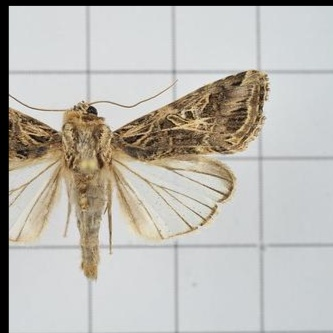Spodoptera litura: (9, 69, 271, 284)
